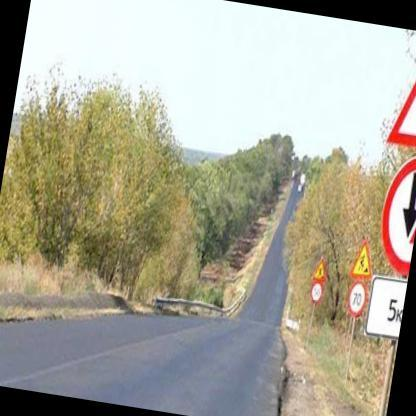obstructed_road_sign: (382, 156, 415, 276), (366, 276, 407, 338), (387, 81, 415, 147)
road_sign: (347, 240, 371, 278), (347, 282, 367, 318), (312, 259, 326, 282), (310, 282, 323, 304)
